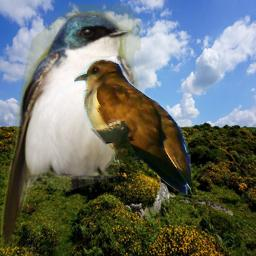Cuckoo: (74, 59, 191, 197)
Swallow: (1, 3, 141, 247)
